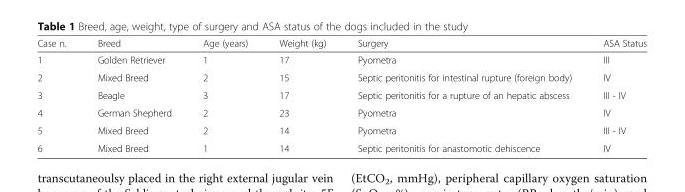table: (36, 37, 646, 153)
table column: (341, 37, 586, 153), (81, 37, 186, 153), (262, 37, 341, 153), (186, 37, 262, 153), (586, 37, 646, 153), (36, 37, 81, 153)
table column header: (36, 37, 646, 51)
table row: (36, 85, 646, 103), (36, 103, 646, 121), (36, 121, 646, 139), (36, 51, 646, 68), (36, 68, 646, 85), (36, 37, 646, 51), (36, 139, 646, 153)
